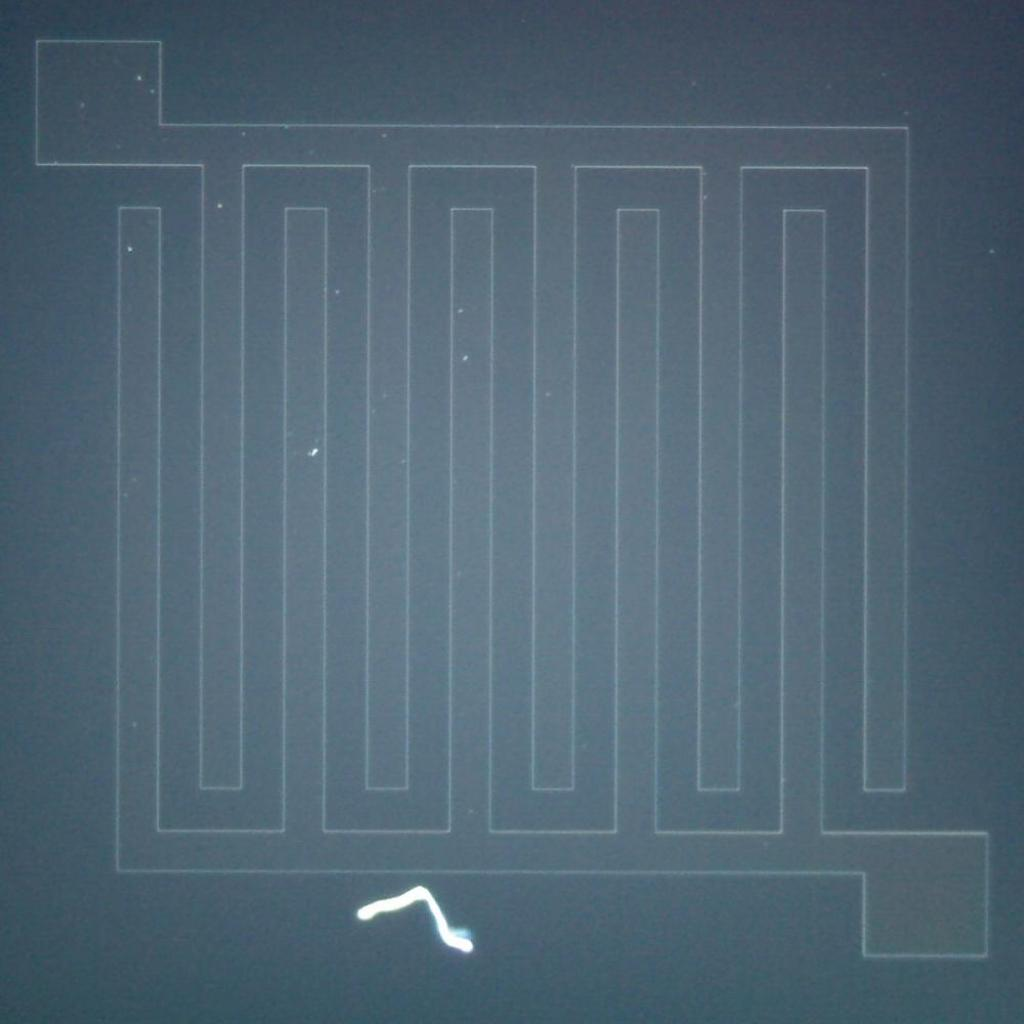curve: (357, 896, 386, 924), (411, 883, 437, 907), (387, 889, 410, 914), (432, 927, 454, 948), (454, 933, 474, 954), (430, 907, 450, 927)
dot: (311, 448, 318, 456), (382, 133, 388, 138), (462, 356, 468, 361), (150, 89, 154, 93), (218, 204, 222, 208), (128, 248, 132, 252), (458, 310, 462, 314), (137, 76, 141, 80)
